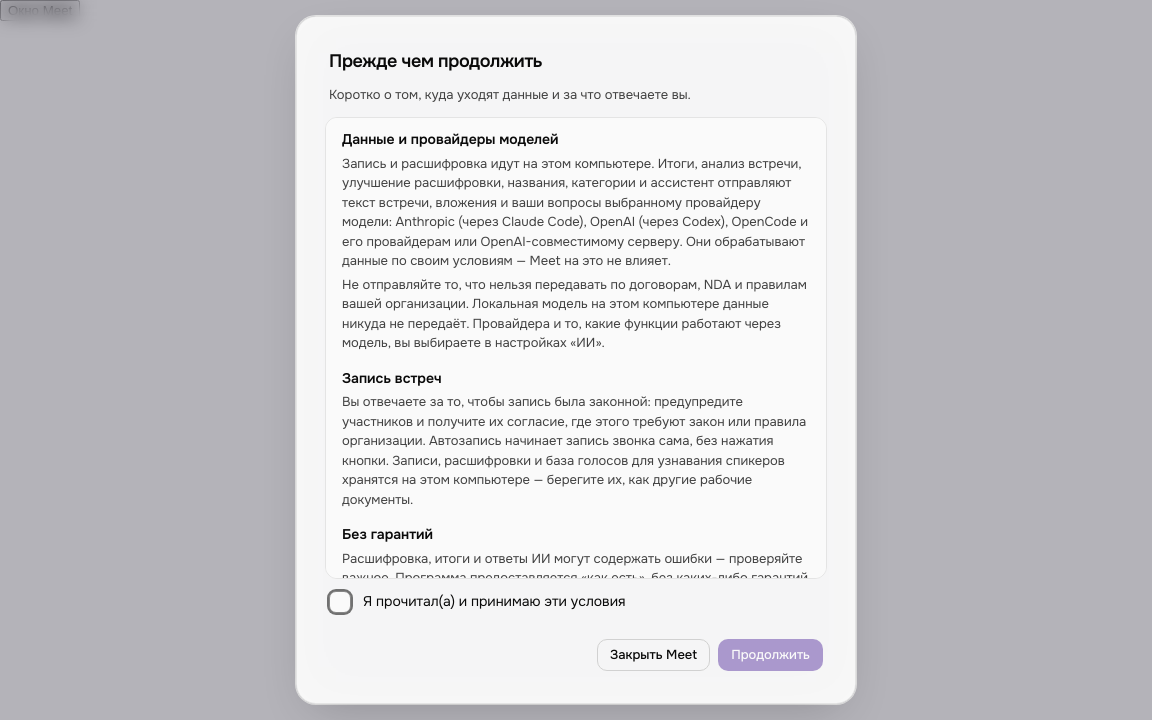
Test: «Продолжить» — PATCH с версией условий, заслонка уходит
Click the checkbox: (340, 602) [329, 591, 351, 613]
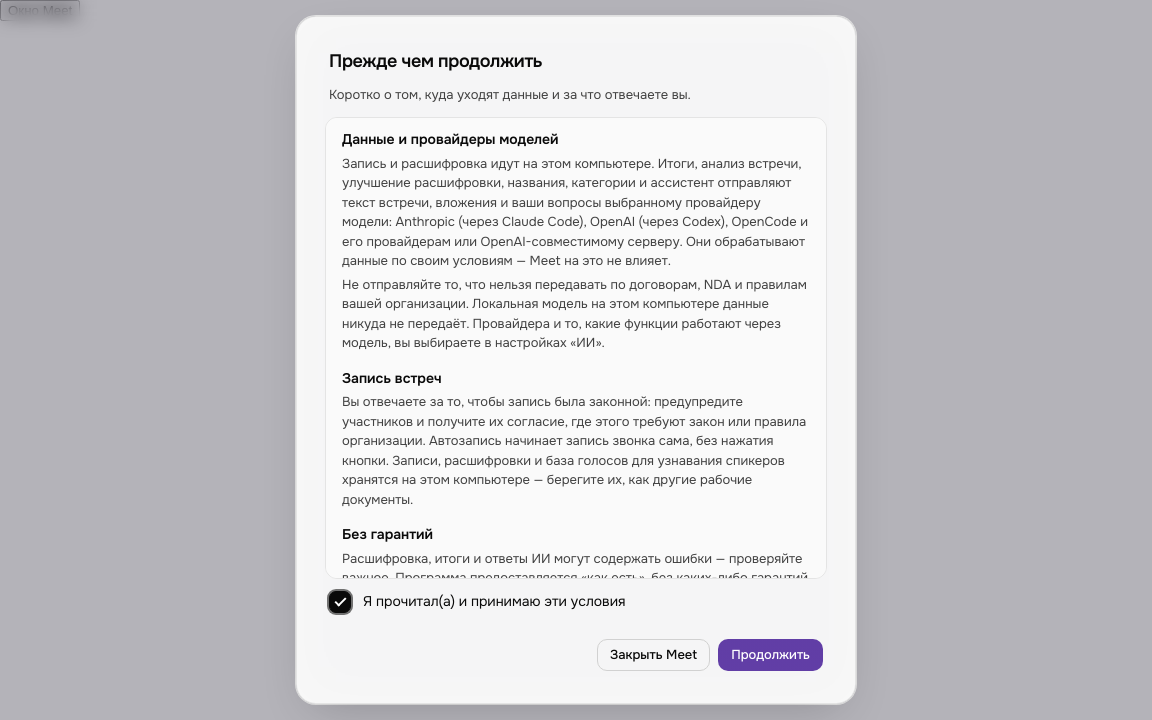
Click the button "Продолжить": (771, 655) [718, 639, 823, 671]
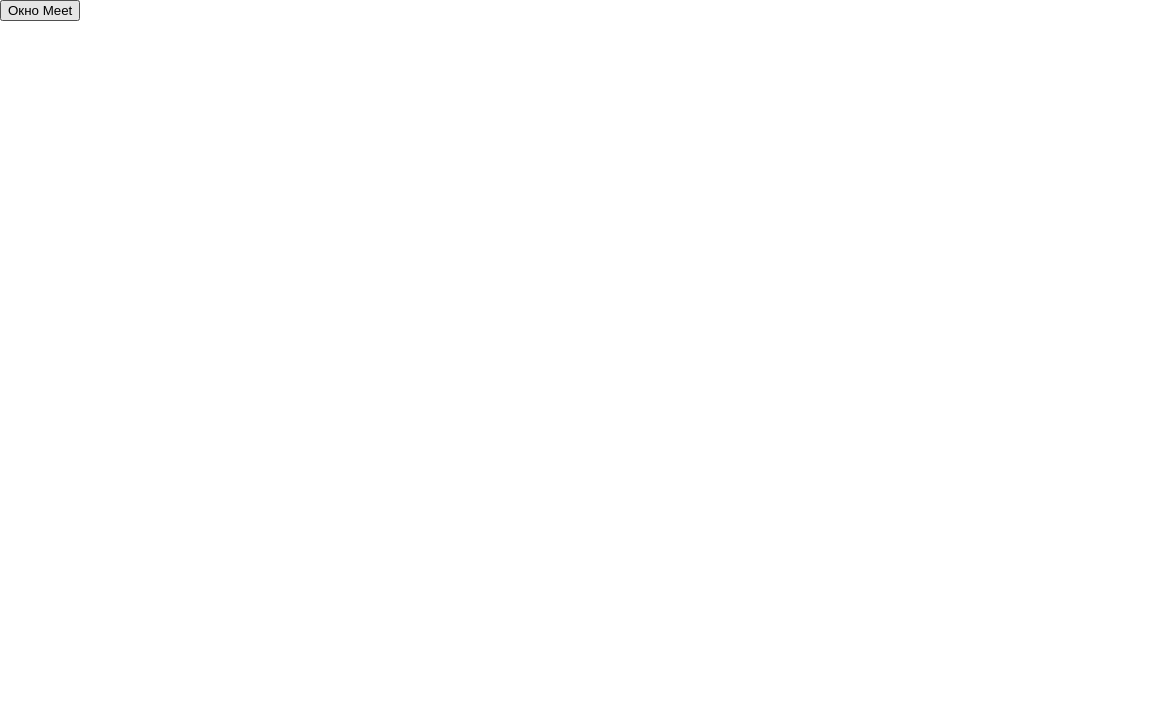
expect the dialog is gone: met
